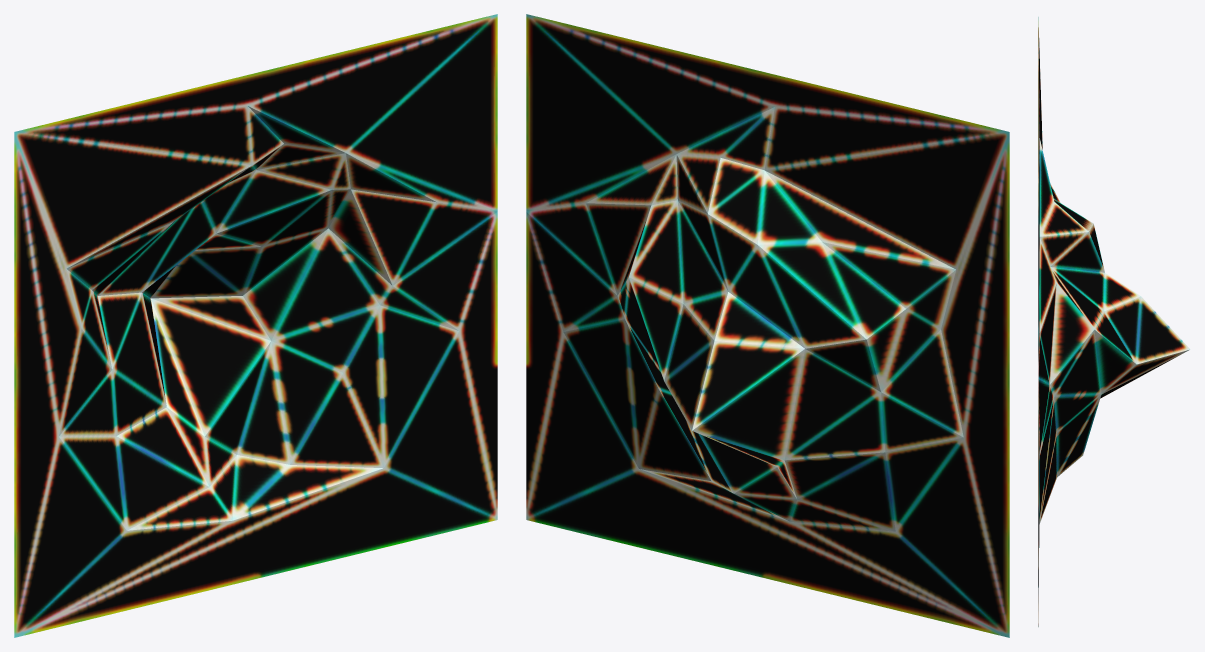
File: wire_terr_1.FBX
3 renders of one model, left to right at view 1: azimuth 30°, elevation 25°; view 2: azimuth 150°, elevation 25°; view 3: azimuth 270°, elevation 25°, orthographic. The views are drawn at different scales.
Visible parts, largest first — view 1: land_wire; view 2: land_wire; view 3: land_wire.
Part boxes in pixels (x1=…): land_wire: x1=14, y1=14, x2=497, y2=637; land_wire: x1=526, y1=14, x2=1009, y2=637; land_wire: x1=1038, y1=17, x2=1190, y2=626.
Bounding box in the file's own units: 139 × 139 × 45.05.
Materials: 1 (1 with a texture image).
